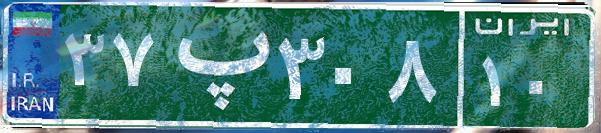0: (330, 28, 385, 110), (525, 38, 570, 115)
1: (475, 38, 525, 113)
3: (273, 28, 330, 110), (57, 26, 110, 107)
7: (110, 28, 158, 105)
8: (385, 28, 445, 110)
پ: (158, 15, 273, 115)
